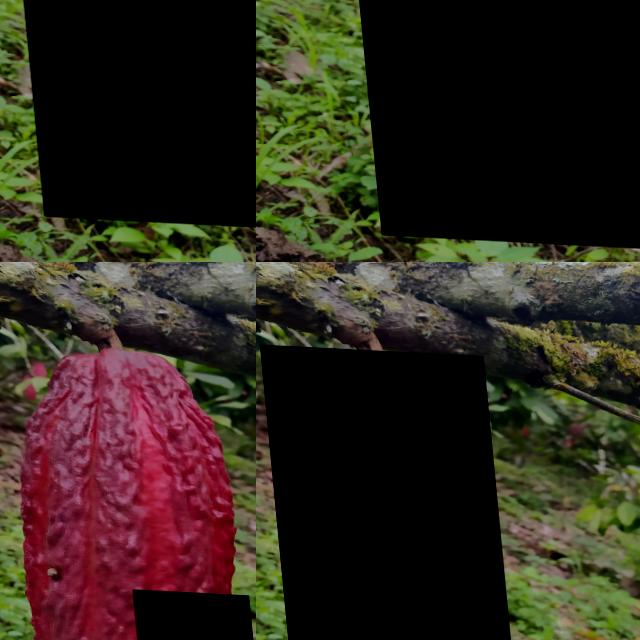Monilia: (124, 586, 251, 640)
Sana: (256, 343, 511, 640), (332, 0, 640, 245), (0, 0, 256, 229), (76, 288, 132, 378), (229, 499, 255, 542), (201, 485, 235, 508), (197, 560, 224, 584)
